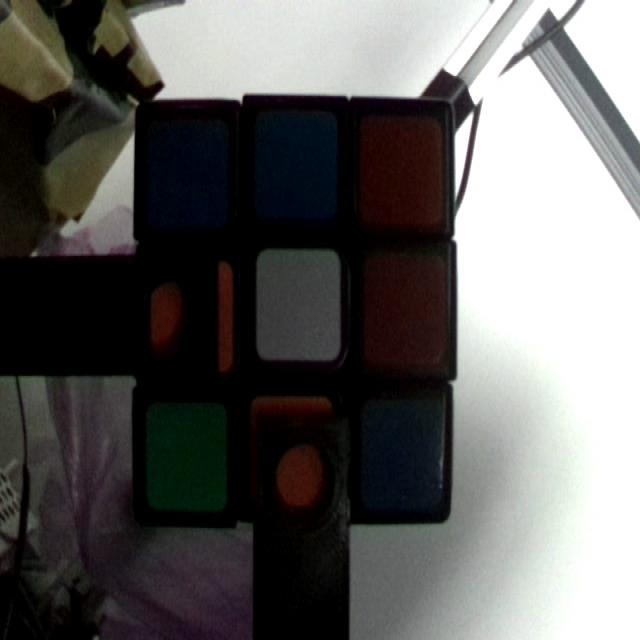b: (363, 406, 440, 511), (262, 116, 336, 209), (157, 126, 227, 219)
g: (146, 400, 227, 510)
o: (152, 264, 231, 369), (256, 400, 335, 504)
r: (368, 258, 445, 363), (363, 121, 438, 221)
w: (257, 248, 340, 362)
